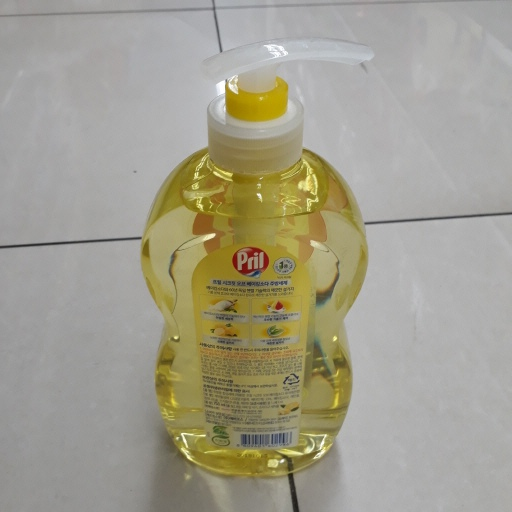Plastic_3: (140, 41, 378, 481)
